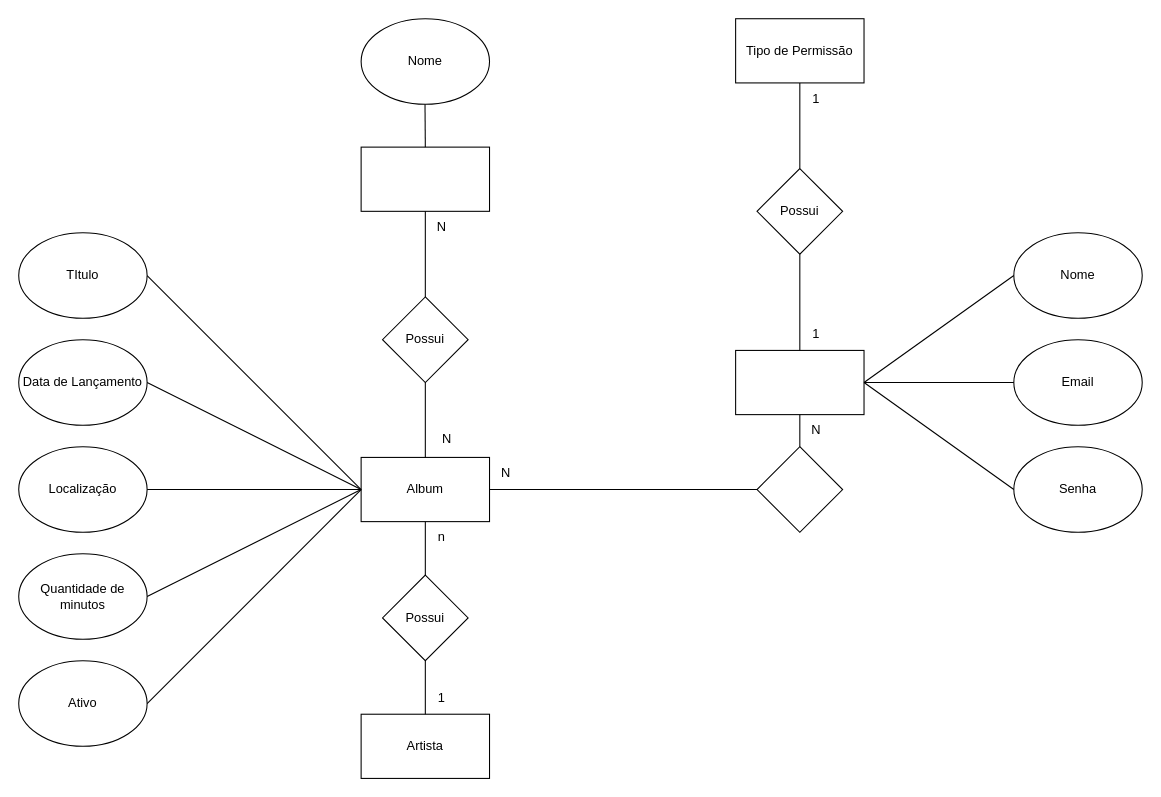
Some shapes in this 1161 by 797 pixel diagram are drawn without their labels. The shapes that lost their labels are listed below. From the top down, each one's centre as x and y in pixels, then its label:
At (x=425, y=178): "Estilo".
At (x=799, y=382): "Usuario".
At (x=799, y=489): "Acessa".
